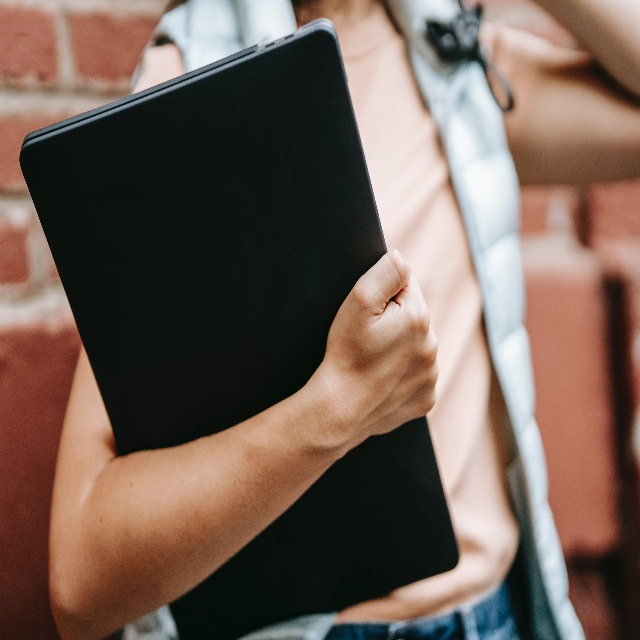Sin_guantes: (325, 247, 439, 446)
